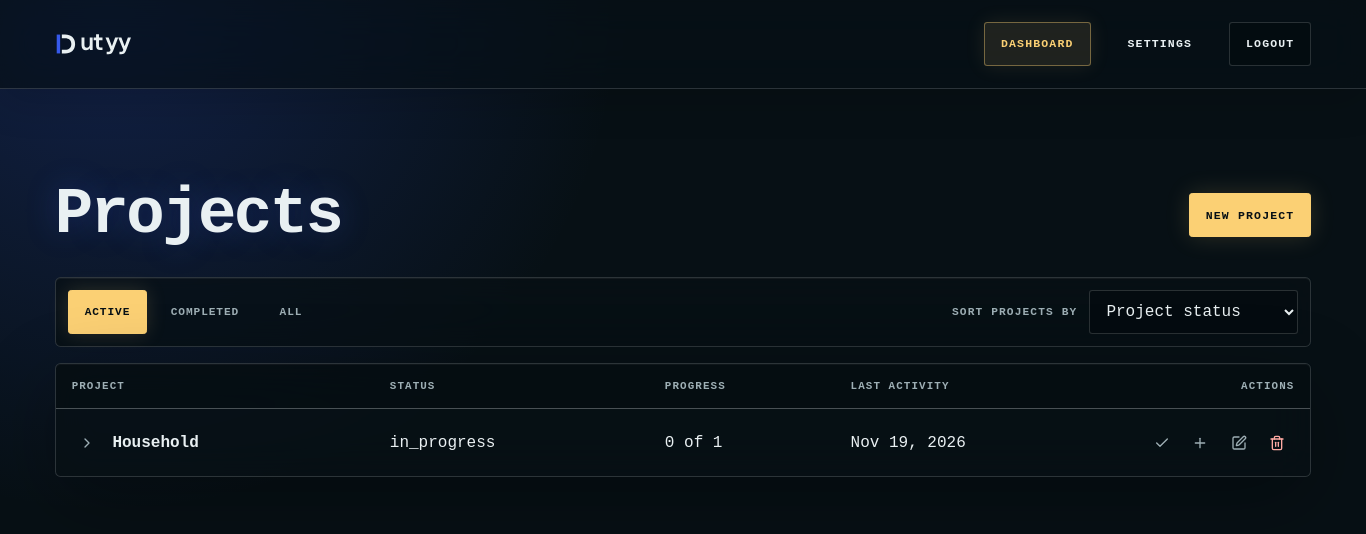
Test: App user and session state management › preserves authentication and protected caches when logout fails
This screenshot has width=1366, height=534.
Expected: the text "Household" is shown, [112, 434, 199, 452]
Click the button "Logout". click: (1270, 44)
box: [1229, 22, 1311, 66]
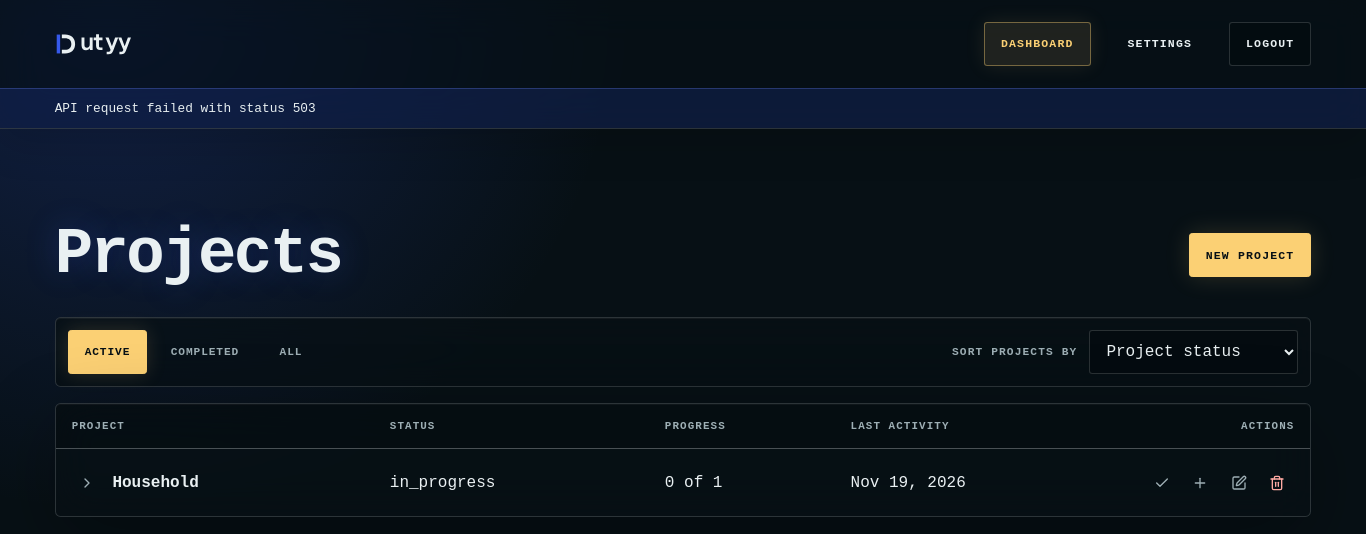
Expected: the text "Household" is shown, [112, 474, 199, 492]
Now the message reads "API request failed with status 503", box [55, 101, 316, 116]
